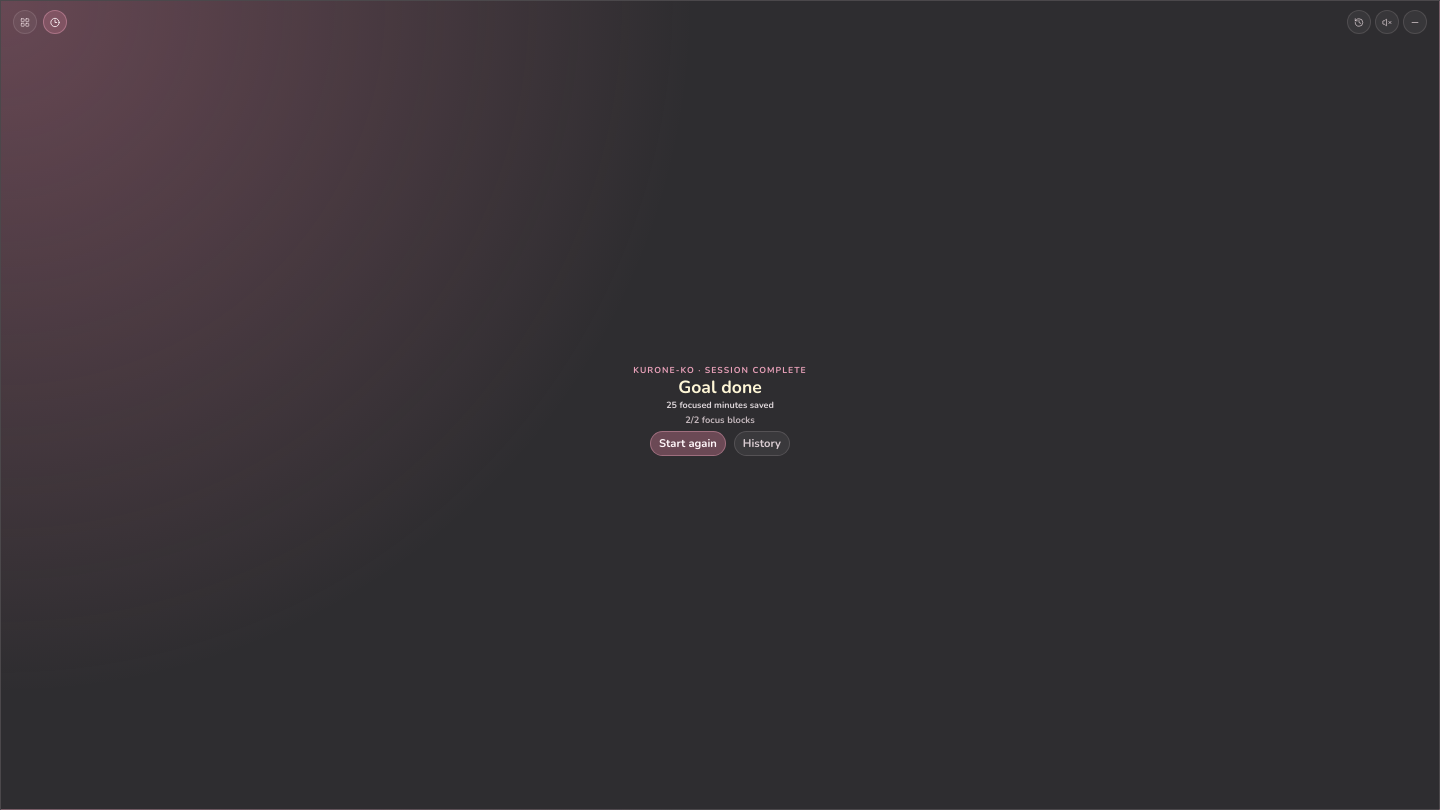
Test case: TimerWidget › renders completed-session copy and lets History switch to the history panel
expect the message named "Pomodoro session complete" shows "Goal done": met, box top-left (678, 375), bottom-right (762, 399)
expect the text "25 focused minutes saved" is shown: met, box top-left (666, 399), bottom-right (774, 411)
Click the button "History".
click(762, 444)  # box top-left (734, 431), bottom-right (790, 456)
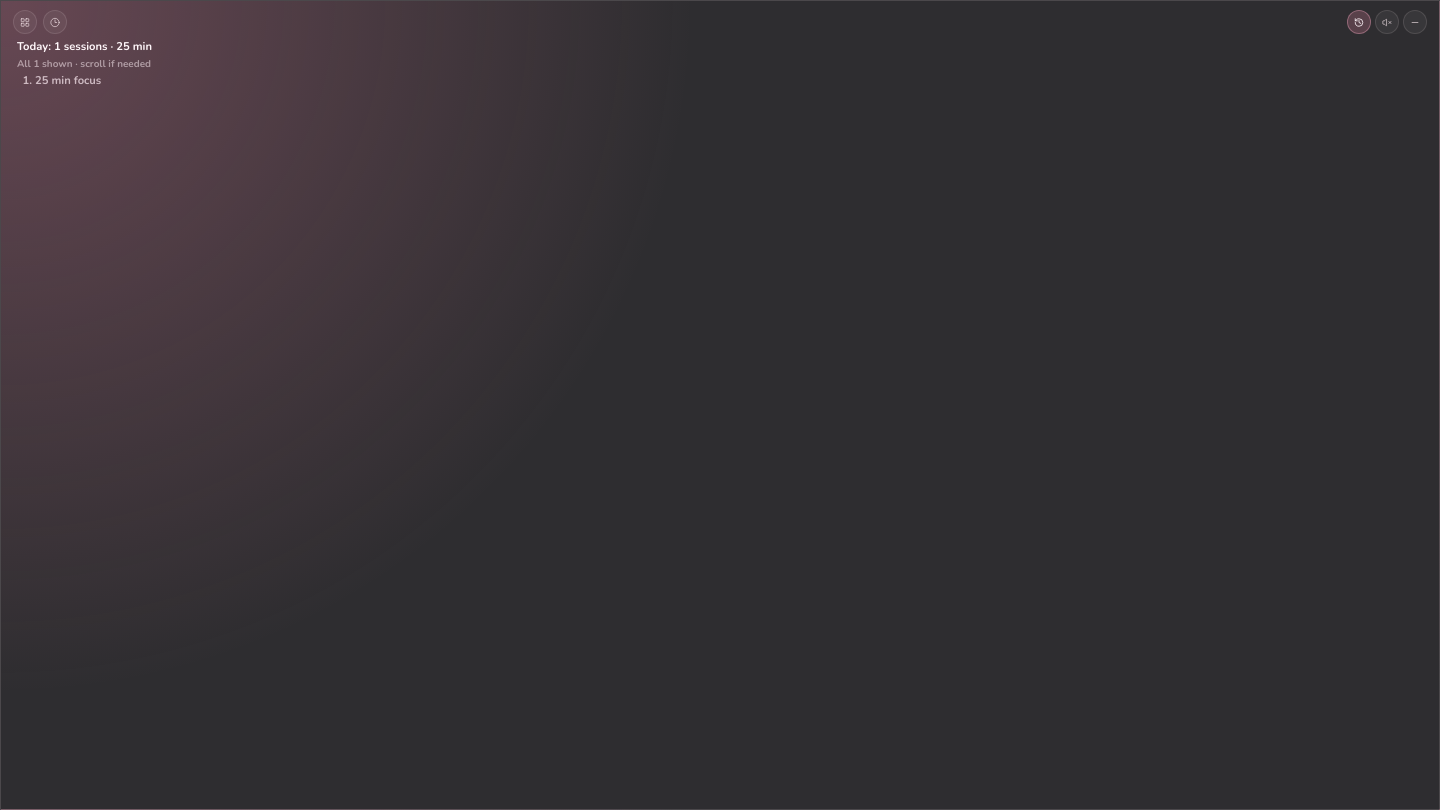
expect the element named "Today history" is shown: met, box top-left (17, 39), bottom-right (152, 88)
expect the text "Today: 1 sessions · 25 min" is shown: met, box top-left (17, 39), bottom-right (152, 54)
